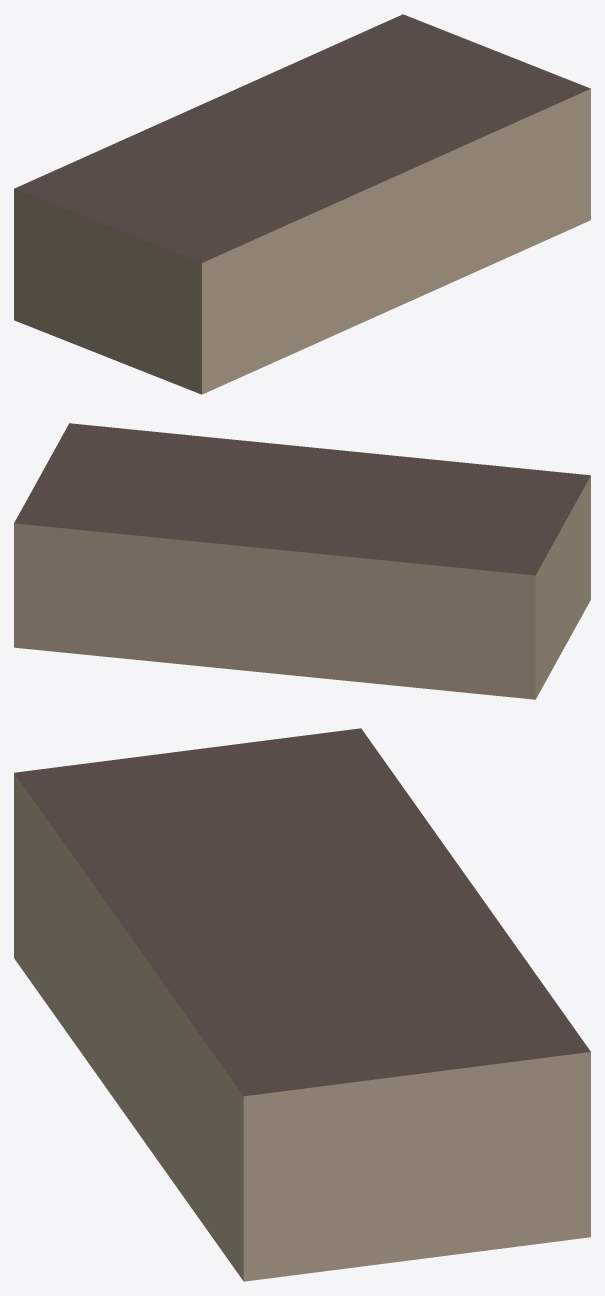
3 renders of one model, top to bottom at view 1: azimuth 30°, elevation 25°; view 2: azimuth 150°, elevation 25°; view 3: azimuth 270°, elevation 25°, orthographic. The views are drawn at different scales.
Visible parts, largest first — view 1: HP-w293397506; view 2: HP-w293397506; view 3: HP-w293397506.
Boxes of the visible parts, x1,y1,x2,y2 form: HP-w293397506: (14,14,590,394); HP-w293397506: (14,423,590,699); HP-w293397506: (14,728,590,1281).
Size of the model in its own units: 38.32 by 9 by 25.39.
